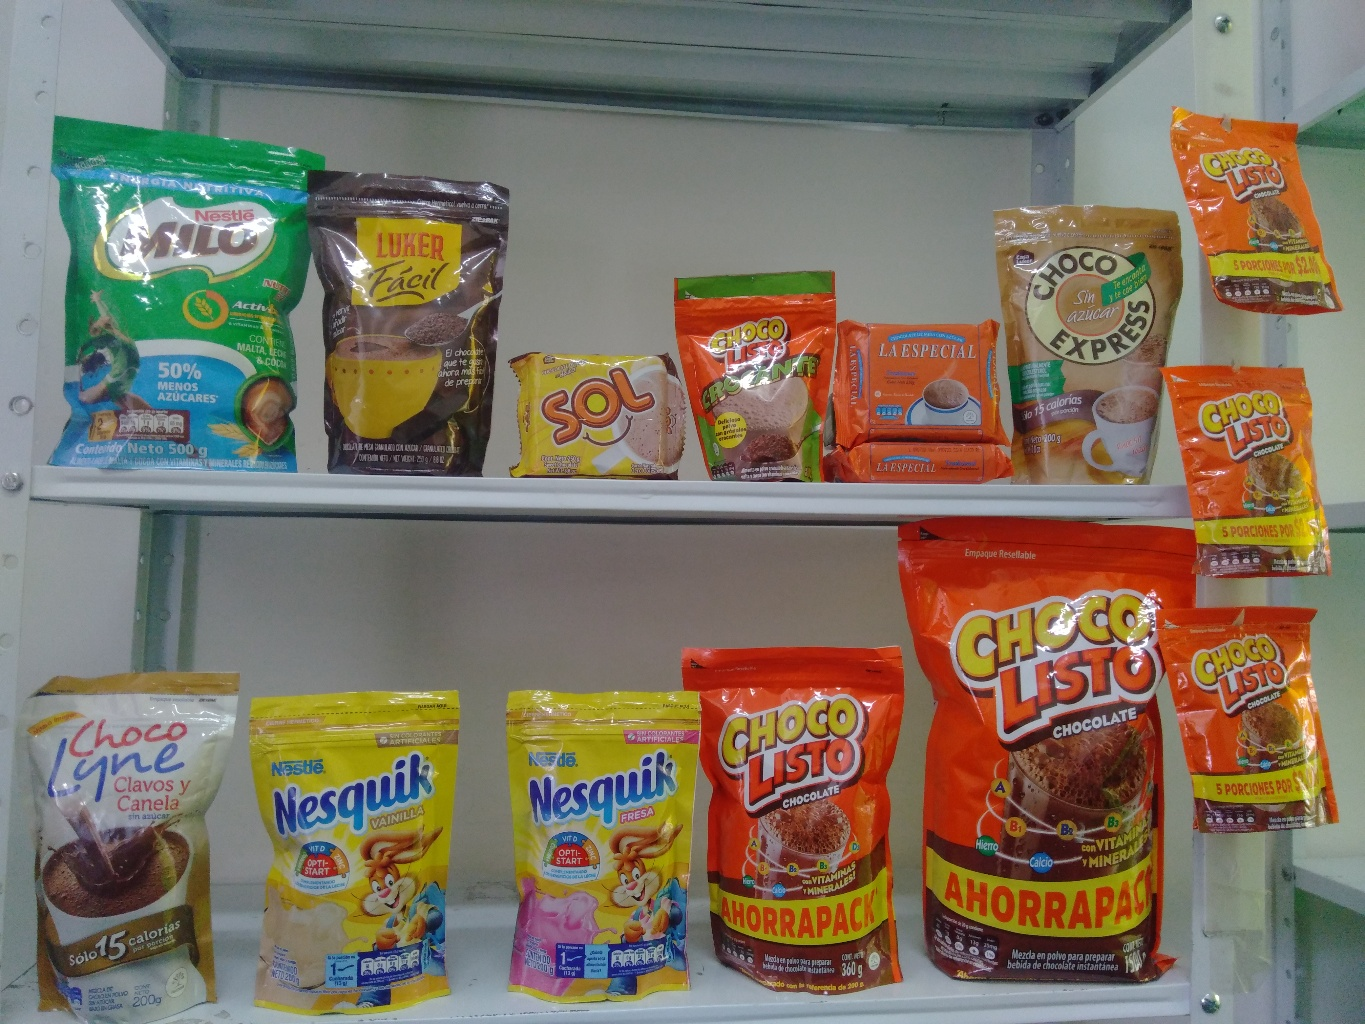COL0170102DYP10000: (676, 261, 847, 475)
COL0170103DYP1,500: (901, 518, 1204, 981)
COL0170103DYP36000: (679, 641, 899, 982)
COL0170205DYP50000: (39, 114, 327, 467)
COL0170305DYP20000: (504, 685, 703, 997)
COL0170306DYP20000: (248, 689, 478, 1009)
